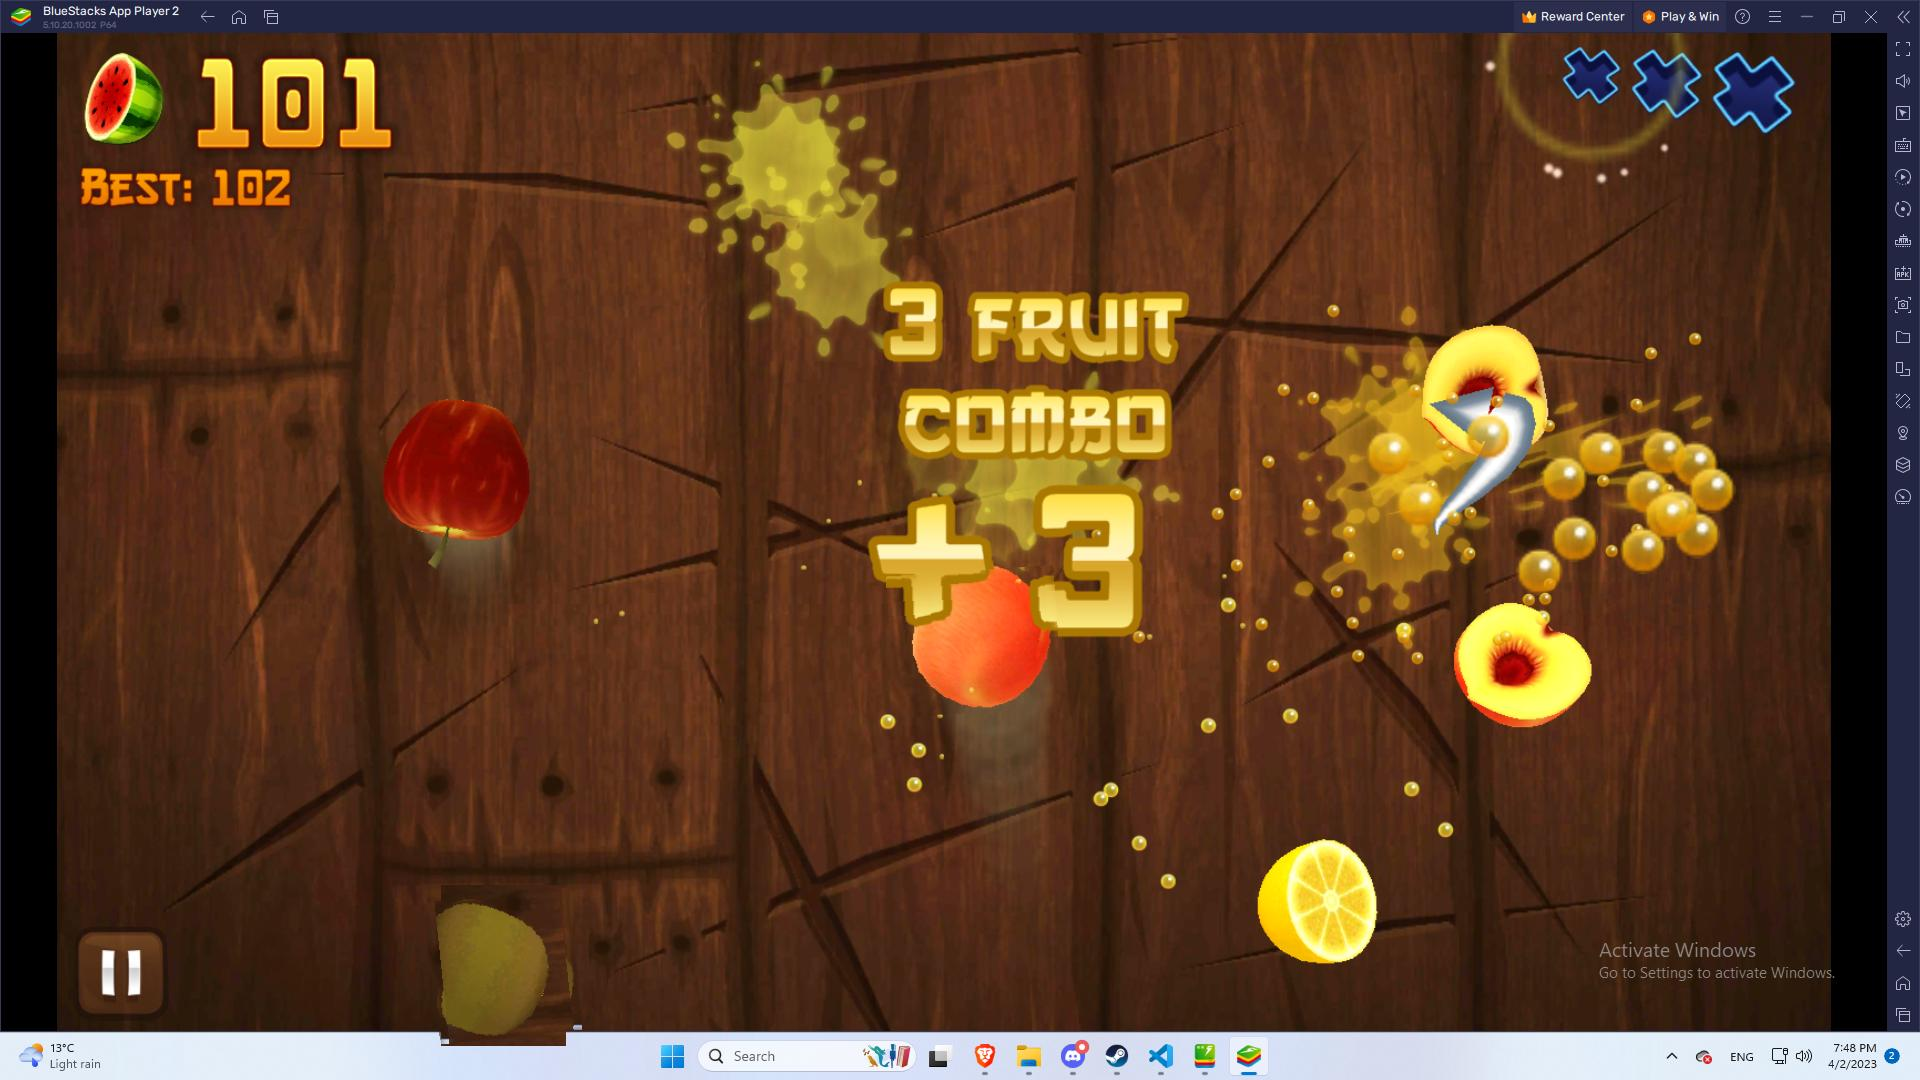fruit: (381, 390, 537, 574), (889, 568, 1062, 716), (429, 890, 579, 1040)
